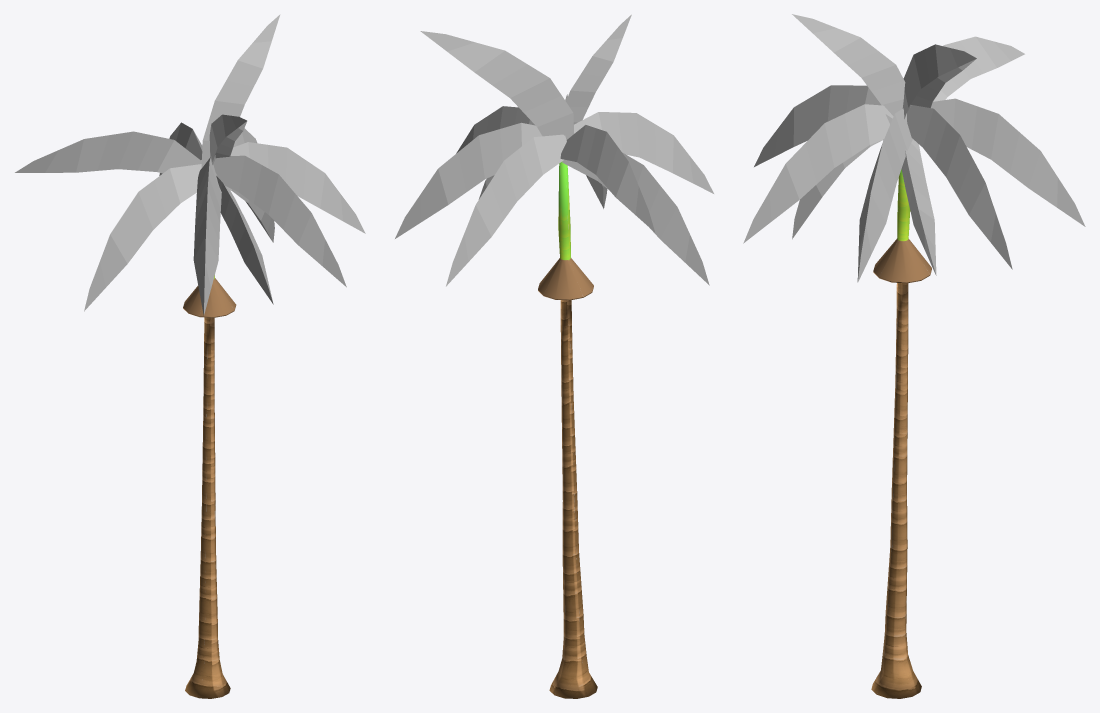
The model's file is Coqueiro.dae.
3 renders of one model, left to right at view 1: azimuth 30°, elevation 25°; view 2: azimuth 150°, elevation 25°; view 3: azimuth 270°, elevation 25°, orthographic. The views are drawn at different scales.
Visible parts, largest first — view 1: Folhas_Açai.001; view 2: Folhas_Açai.001; view 3: Folhas_Açai.001.
Part boxes in pixels (<box>): Folhas_Açai.001: <box>15,14,365,698</box>; Folhas_Açai.001: <box>395,14,713,698</box>; Folhas_Açai.001: <box>743,14,1085,698</box>.
Size of the model in its own units: 3.66 by 3.56 by 7.9.
